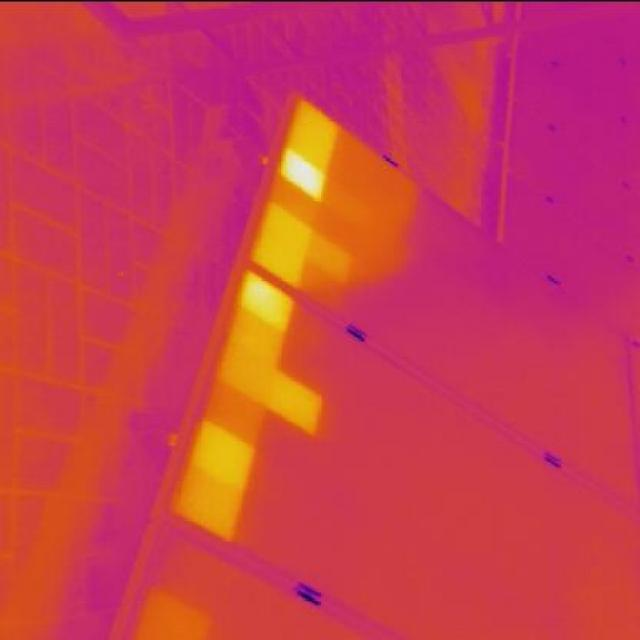hotspot: (177, 420, 254, 534), (221, 312, 282, 396), (255, 200, 317, 282), (288, 92, 343, 163), (241, 273, 293, 330), (276, 375, 321, 430), (308, 232, 352, 285), (280, 152, 329, 198)
